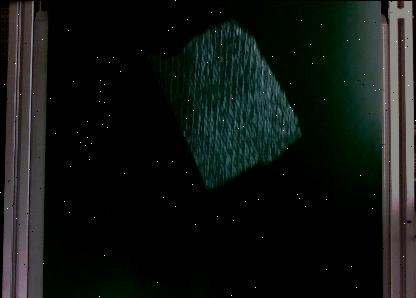Others: (142, 12, 302, 192)
